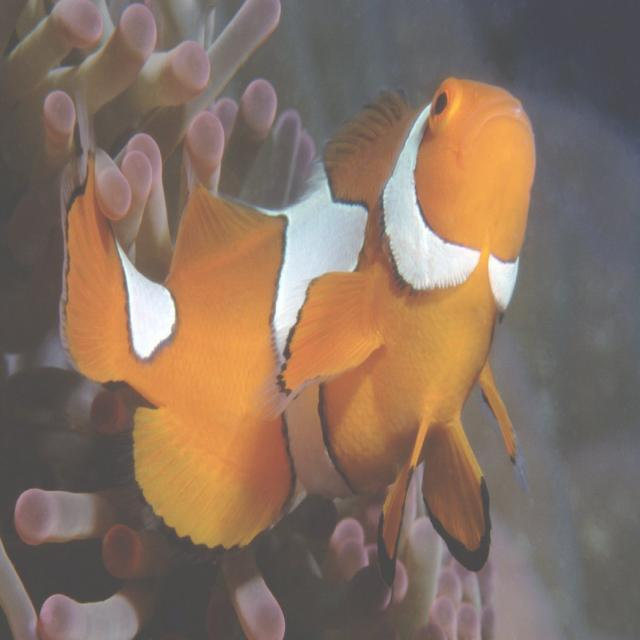ClownFish: (61, 73, 536, 585)
